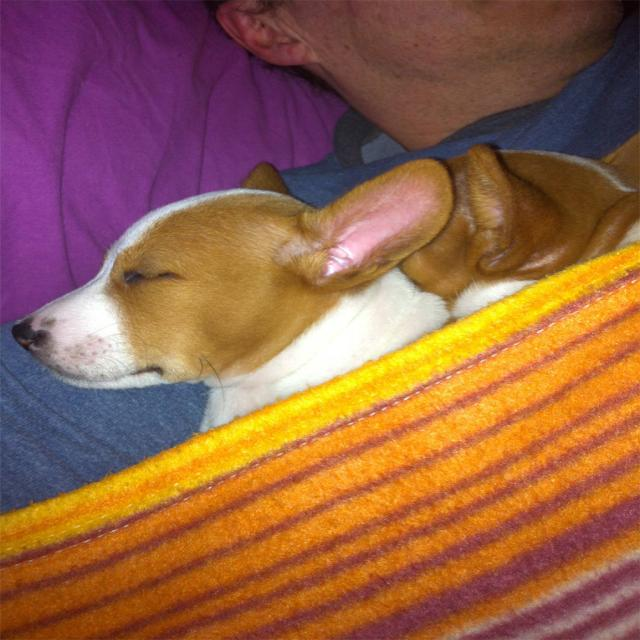Dog: (10, 159, 456, 439), (390, 148, 638, 322)
